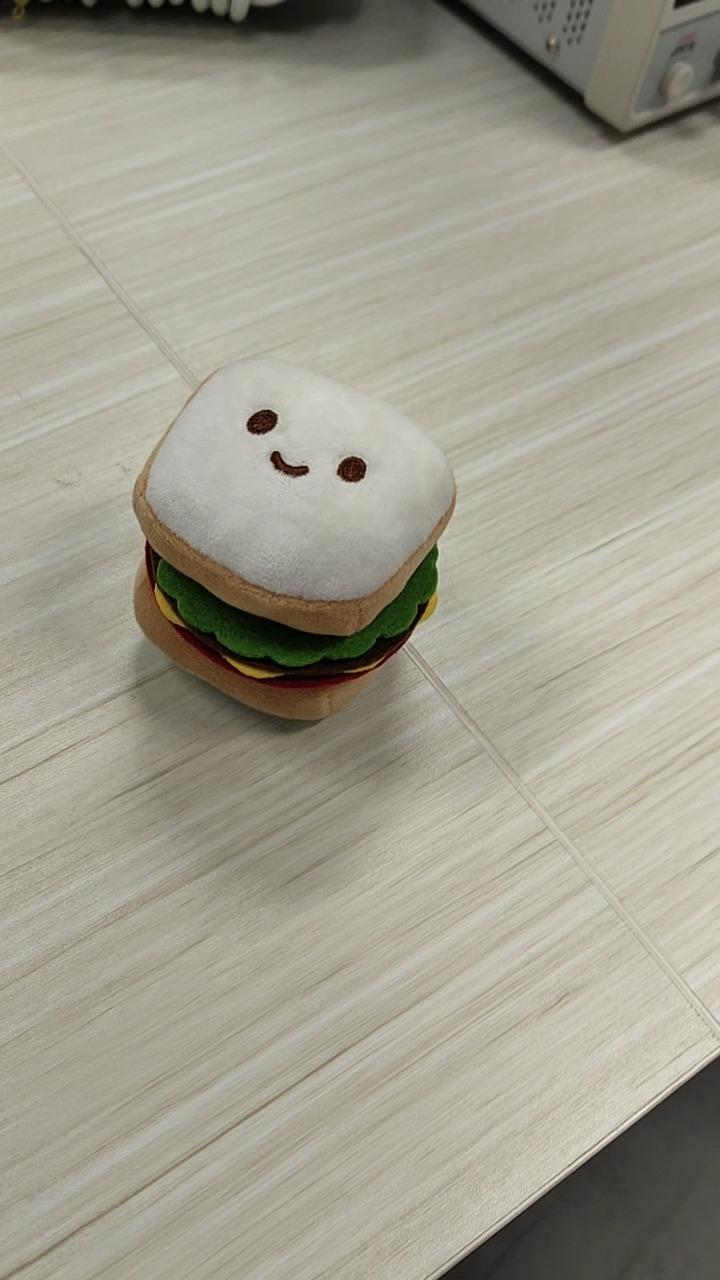objects: (130, 352, 457, 722)
